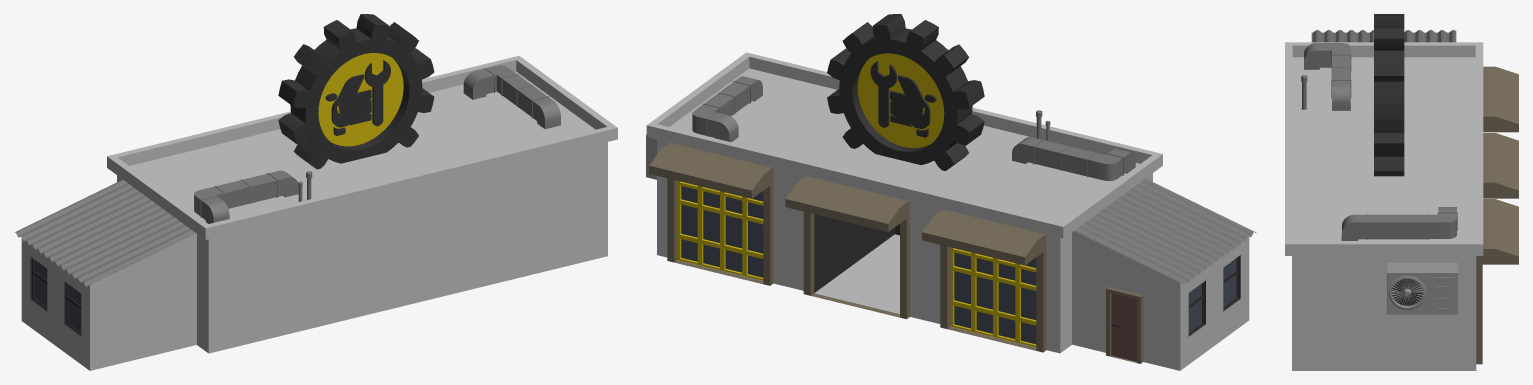
The model's file is auto_repair.fbx.
The picture shows the model from 3 angles, left to right: view 1: azimuth 30°, elevation 25°; view 2: azimuth 150°, elevation 25°; view 3: azimuth 270°, elevation 25°; orthographic projection.
Visible parts, largest first — view 1: Cube; view 2: Cube; view 3: Cube.
Part boxes in pixels (x1=…): Cube: x1=15, y1=14, x2=617, y2=370; Cube: x1=646, y1=14, x2=1256, y2=370; Cube: x1=1285, y1=14, x2=1518, y2=370.
Bounding box in the file's own units: 2633 × 1170 × 995.
